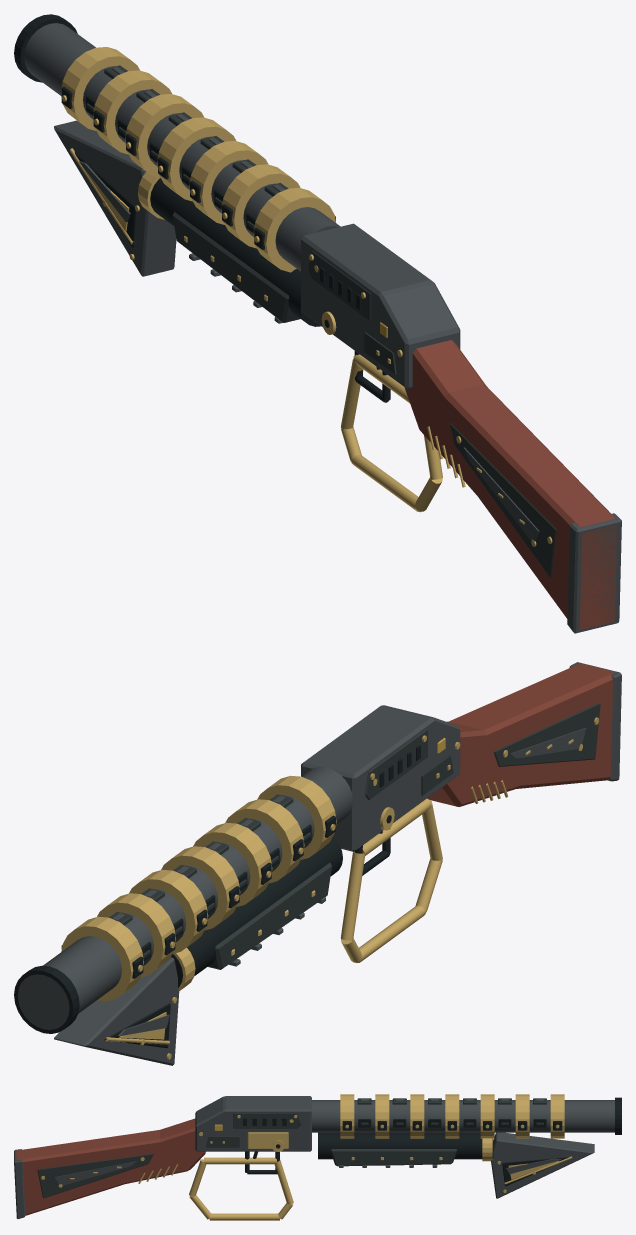
Rendered from slug_4.glb.
3 renders of one model, top to bottom at view 1: azimuth 30°, elevation 25°; view 2: azimuth 150°, elevation 25°; view 3: azimuth 270°, elevation 25°, orthographic. The views are drawn at different scales.
Parts seen in each view (by area): view 1: Weapon_slug_v1; view 2: Weapon_slug_v1; view 3: Weapon_slug_v1.
Part boxes in pixels (x1,y1,x2,y2): Weapon_slug_v1: [14, 14, 621, 633]; Weapon_slug_v1: [14, 662, 621, 1065]; Weapon_slug_v1: [14, 1094, 621, 1220].
Size of the model in its own units: 0.084 by 0.234 by 1.04.
